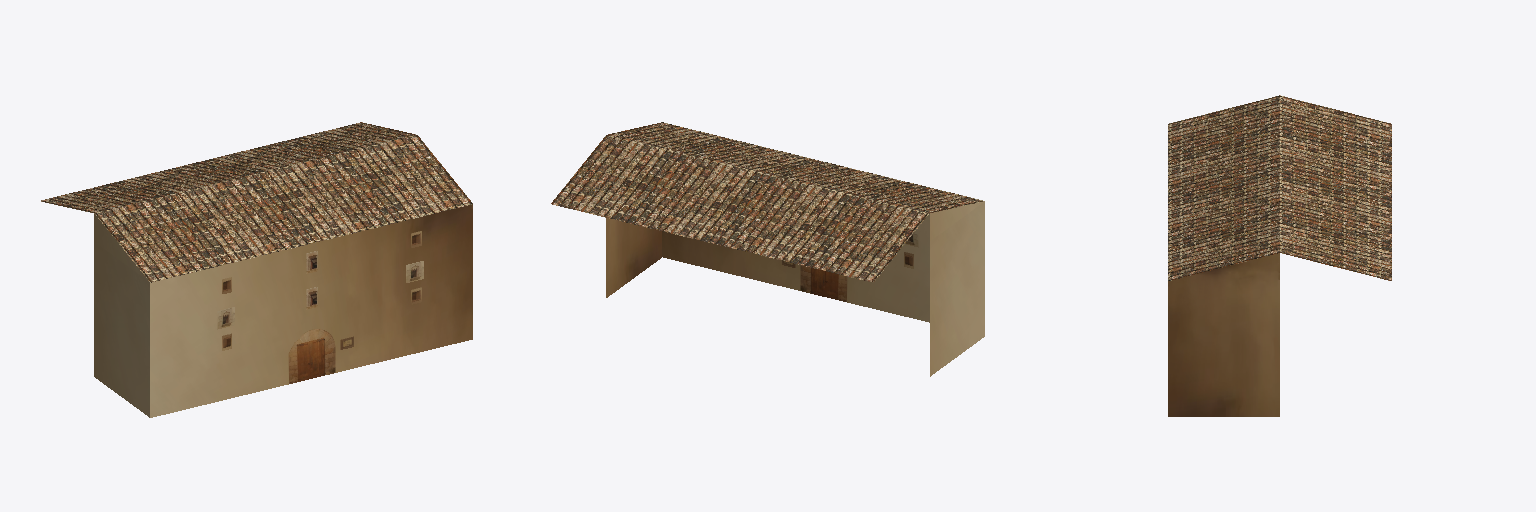
The picture shows the model from 3 angles: view 1: azimuth 30°, elevation 25°; view 2: azimuth 150°, elevation 25°; view 3: azimuth 270°, elevation 25°; orthographic projection.
Visible parts, largest first — view 1: TossaCookingMuseum_TossaCookingMuseumMesh; view 2: TossaCookingMuseum_TossaCookingMuseumMesh; view 3: TossaCookingMuseum_TossaCookingMuseumMesh.
Boxes of the visible parts, x1=… form: TossaCookingMuseum_TossaCookingMuseumMesh: x1=41, y1=122, x2=472, y2=417; TossaCookingMuseum_TossaCookingMuseumMesh: x1=551, y1=122, x2=984, y2=376; TossaCookingMuseum_TossaCookingMuseumMesh: x1=1168, y1=95, x2=1391, y2=416.
Bounding box in the file's own units: 20 × 9.68 × 12.
Materials: 1 (1 with a texture image).